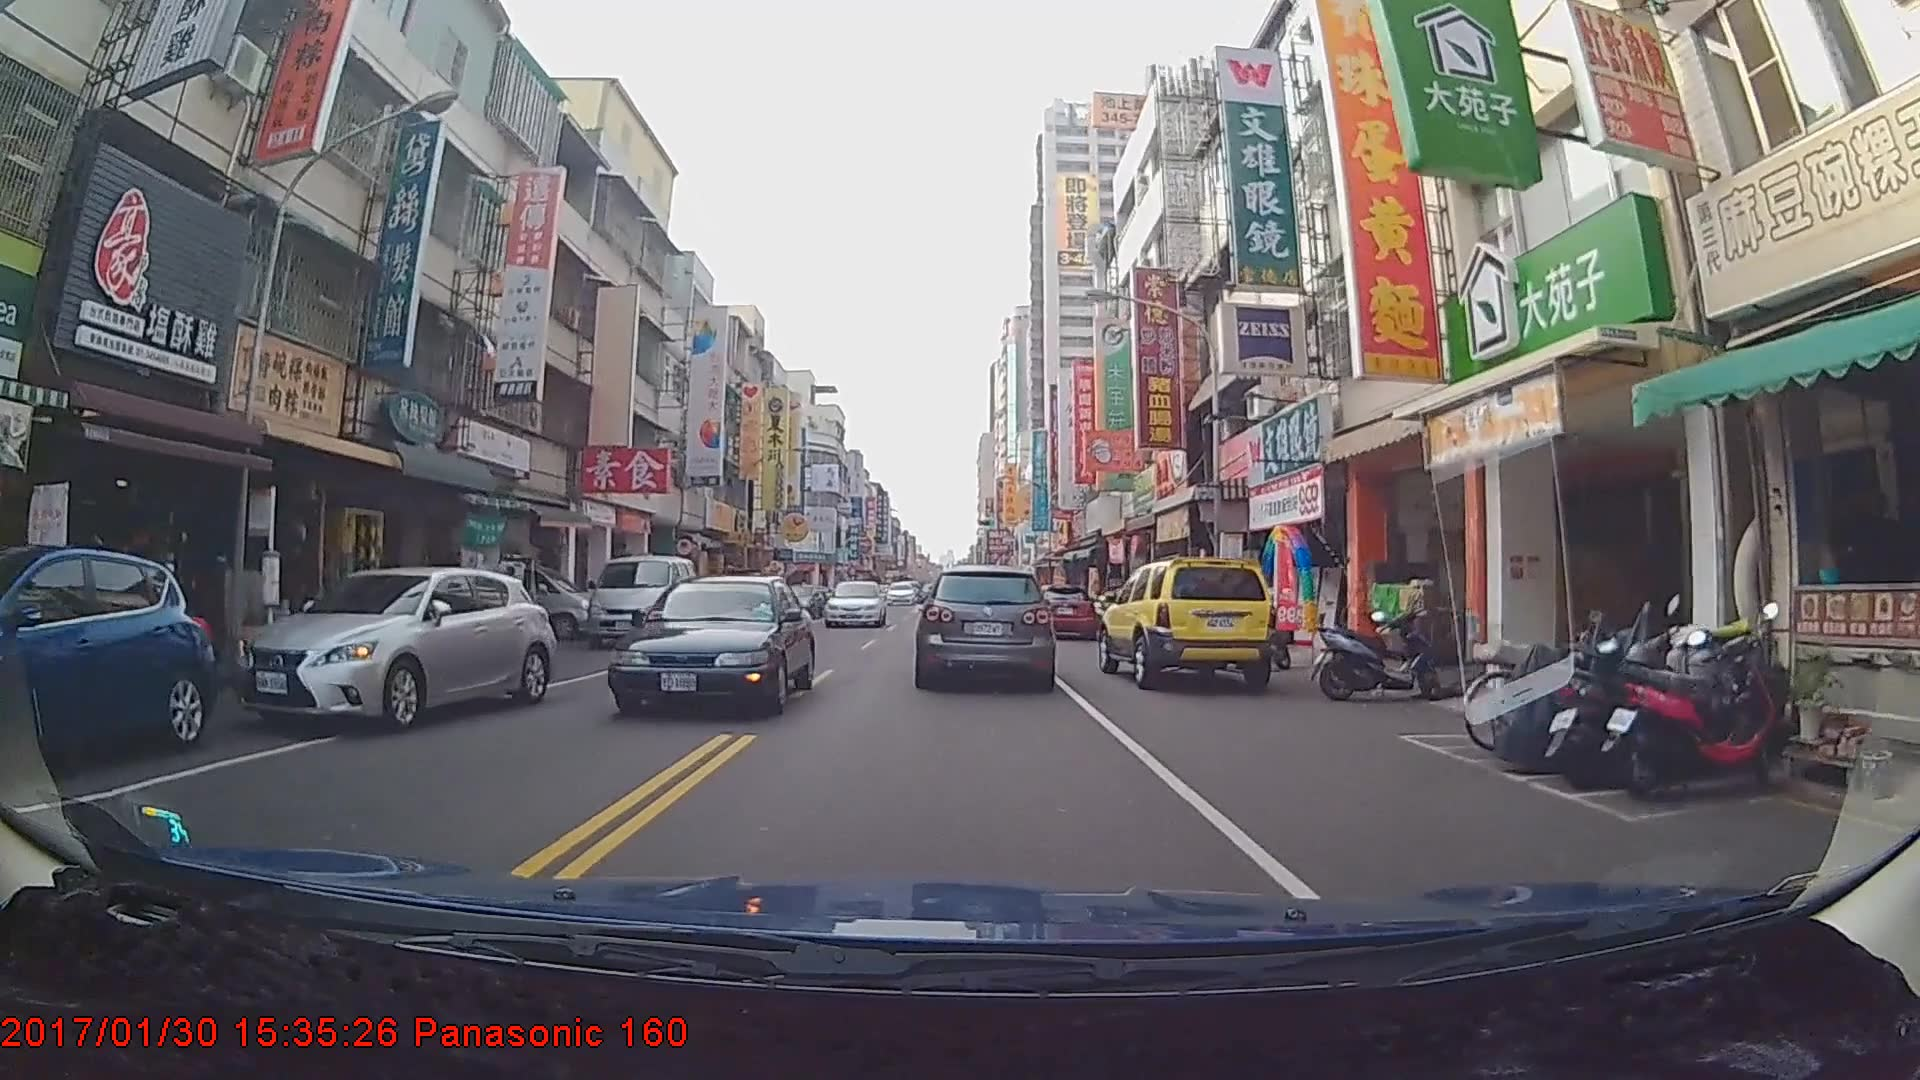vehicle: (227, 564, 556, 732), (0, 545, 218, 781), (600, 571, 820, 717), (1096, 559, 1276, 691), (919, 562, 1052, 688), (585, 555, 698, 649), (1030, 585, 1098, 640), (823, 580, 886, 629), (887, 579, 920, 607)
